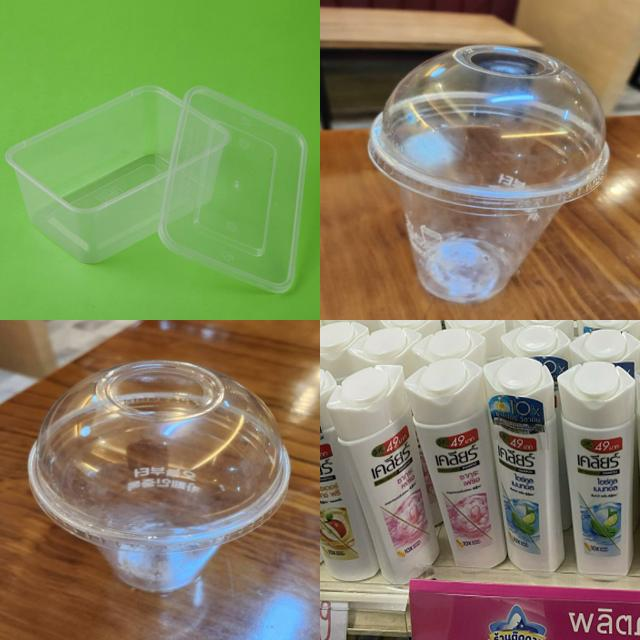HDPE Plastic: (326, 365, 439, 584), (404, 359, 506, 567), (482, 358, 564, 571), (559, 361, 635, 574), (321, 370, 379, 581)
Single-Use-Plastic: (369, 45, 609, 302), (29, 360, 290, 592), (6, 86, 181, 262), (159, 88, 308, 292)
